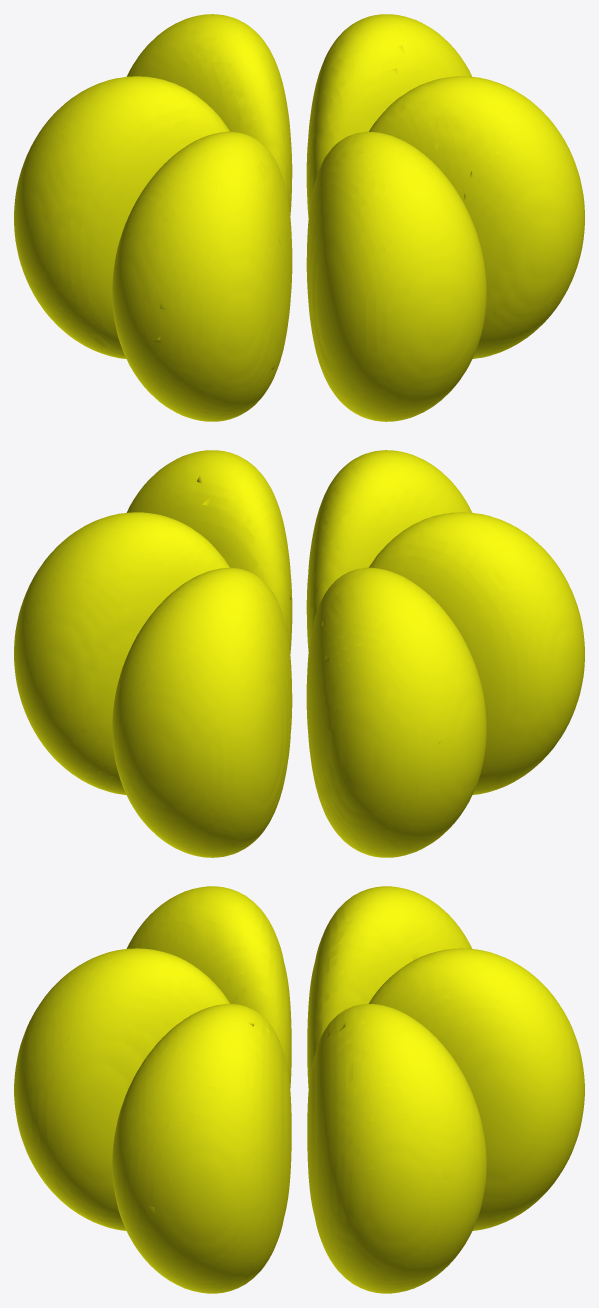
File: orb_n=4_ l=3 _m=-3.fbx
The picture shows the model from 3 angles, top to bottom: view 1: azimuth 30°, elevation 25°; view 2: azimuth 150°, elevation 25°; view 3: azimuth 270°, elevation 25°; orthographic projection.
Visible parts, largest first — view 1: orb_n=4_ l=3 _m=-3; view 2: orb_n=4_ l=3 _m=-3; view 3: orb_n=4_ l=3 _m=-3.
Boxes of the visible parts, x1,y1,x2,y2 form: orb_n=4_ l=3 _m=-3: [14, 14, 584, 421]; orb_n=4_ l=3 _m=-3: [14, 450, 584, 857]; orb_n=4_ l=3 _m=-3: [14, 886, 584, 1293].
Bounding box in the file's own units: 6342 × 3687 × 6970.
